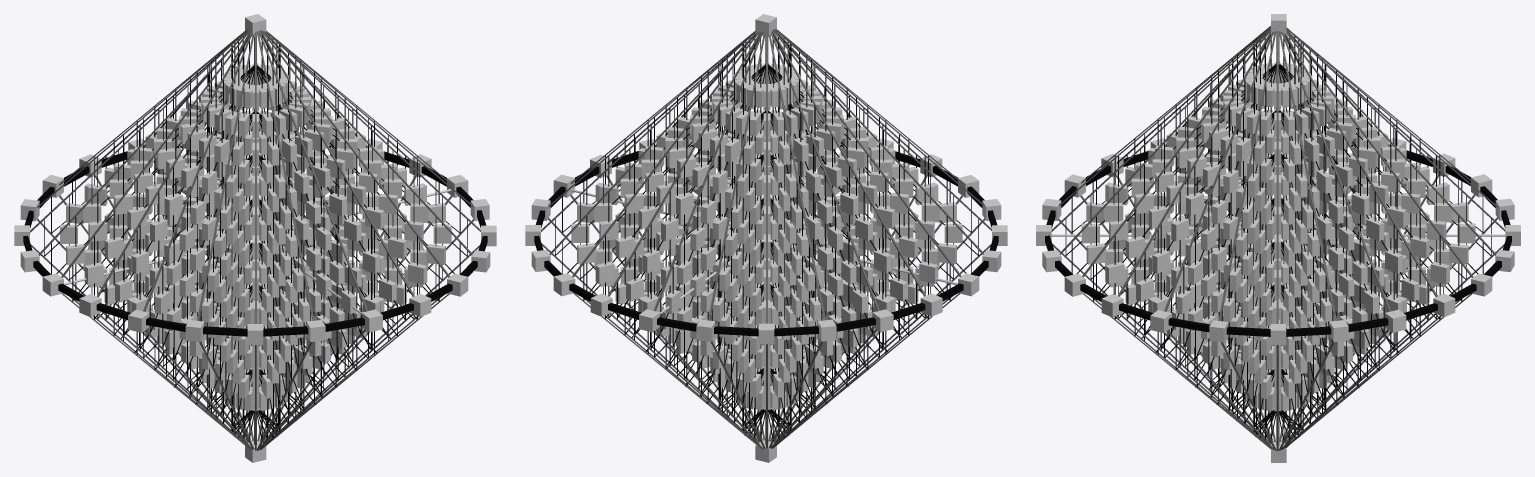
The model's file is NewBegin.fbx.
3 renders of one model, left to right at view 1: azimuth 30°, elevation 25°; view 2: azimuth 150°, elevation 25°; view 3: azimuth 270°, elevation 25°, orthographic.
Parts seen in each view (by area): view 1: Cylinder, Cube.140, Cube.296, Cube.921, Cube.922, Cube.414, Cube.025, Cube.375, Cube.532, Cube.026, Cube.102, Cube.804 (+23 smaller); view 2: Cylinder, Cube.920, Cube.764, Cube, Cube.687, Cube.570, Cube.141, Cube.532, Cube.028, Cube.531, Cube.180, Cube.882 (+22 smaller); view 3: Cylinder, Cube.610, Cube.454, Cube.374, Cube.218, Cube.765, Cube.297, Cube.336, Cube.648, Cube.492, Cube.804, Cube.686 (+23 smaller).
Part boxes in pixels (bbox=[...]): Cylinder: bbox=[23, 146, 487, 336]; Cube.140: bbox=[261, 58, 310, 438]; Cube.296: bbox=[200, 59, 249, 438]; Cube.921: bbox=[260, 30, 414, 450]; Cube.922: bbox=[272, 54, 405, 436]; Cube.414: bbox=[97, 31, 250, 449]; Cube.025: bbox=[258, 31, 367, 449]; Cube.375: bbox=[143, 32, 251, 449]; Cube.532: bbox=[72, 51, 235, 433]; Cube.026: bbox=[267, 55, 361, 437]; Cube.102: bbox=[256, 31, 314, 450]; Cube.804: bbox=[261, 30, 450, 447]; Cylinder: bbox=[534, 145, 998, 336]; Cube.920: bbox=[712, 57, 761, 438]; Cube.764: bbox=[773, 58, 822, 437]; Cube: bbox=[653, 31, 765, 449]; Cube.687: bbox=[768, 31, 879, 448]; Cube.570: bbox=[772, 30, 925, 448]; Cube.141: bbox=[607, 32, 761, 447]; Cube.532: bbox=[787, 50, 950, 432]; Cube.028: bbox=[660, 55, 754, 437]; Cube.531: bbox=[773, 29, 961, 448]; Cube.180: bbox=[572, 32, 758, 446]; Cube.882: bbox=[708, 33, 765, 448]; Cylinder: bbox=[1045, 145, 1511, 336]; Cube.610: bbox=[1222, 53, 1271, 439]; Cube.454: bbox=[1283, 57, 1333, 439]; Cube.374: bbox=[1289, 54, 1384, 438]; Cube.218: bbox=[1298, 49, 1462, 434]; Cube.765: bbox=[1117, 31, 1270, 448]; Cube.297: bbox=[1284, 34, 1437, 448]; Cube.336: bbox=[1281, 32, 1390, 449]; Cube.648: bbox=[1164, 32, 1273, 449]; Cube.492: bbox=[1276, 31, 1278, 450]; Cube.804: bbox=[1082, 28, 1270, 448]; Cube.686: bbox=[1171, 54, 1265, 439].
Size of the model in its own units: 798 by 804 by 798.
2 materials, 1 textured.
